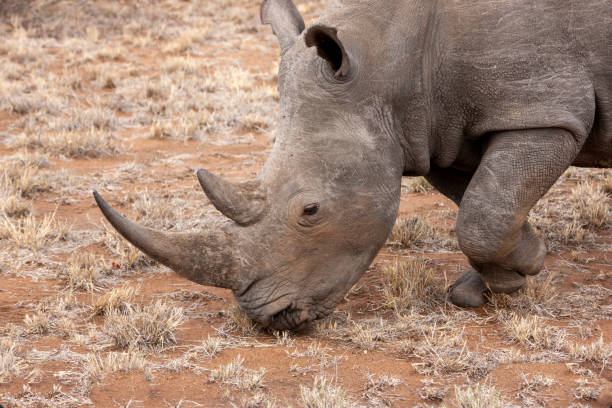rhino: (83, 1, 409, 367)
